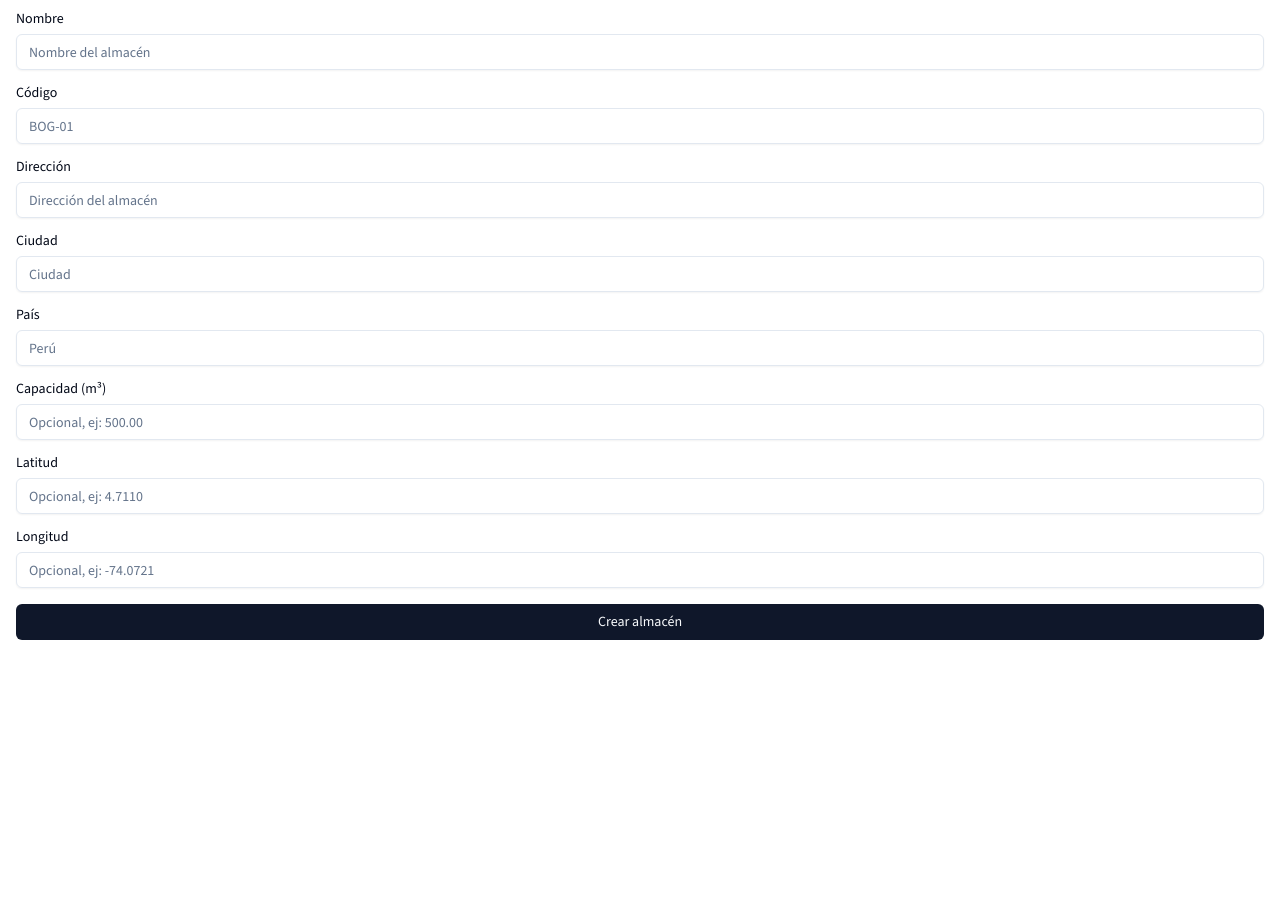
Test: WarehouseForm — validation › shows error when name is empty on submit
This screenshot has width=1280, height=912.
Click the button "Crear almacén": (640, 622) [16, 604, 1264, 640]
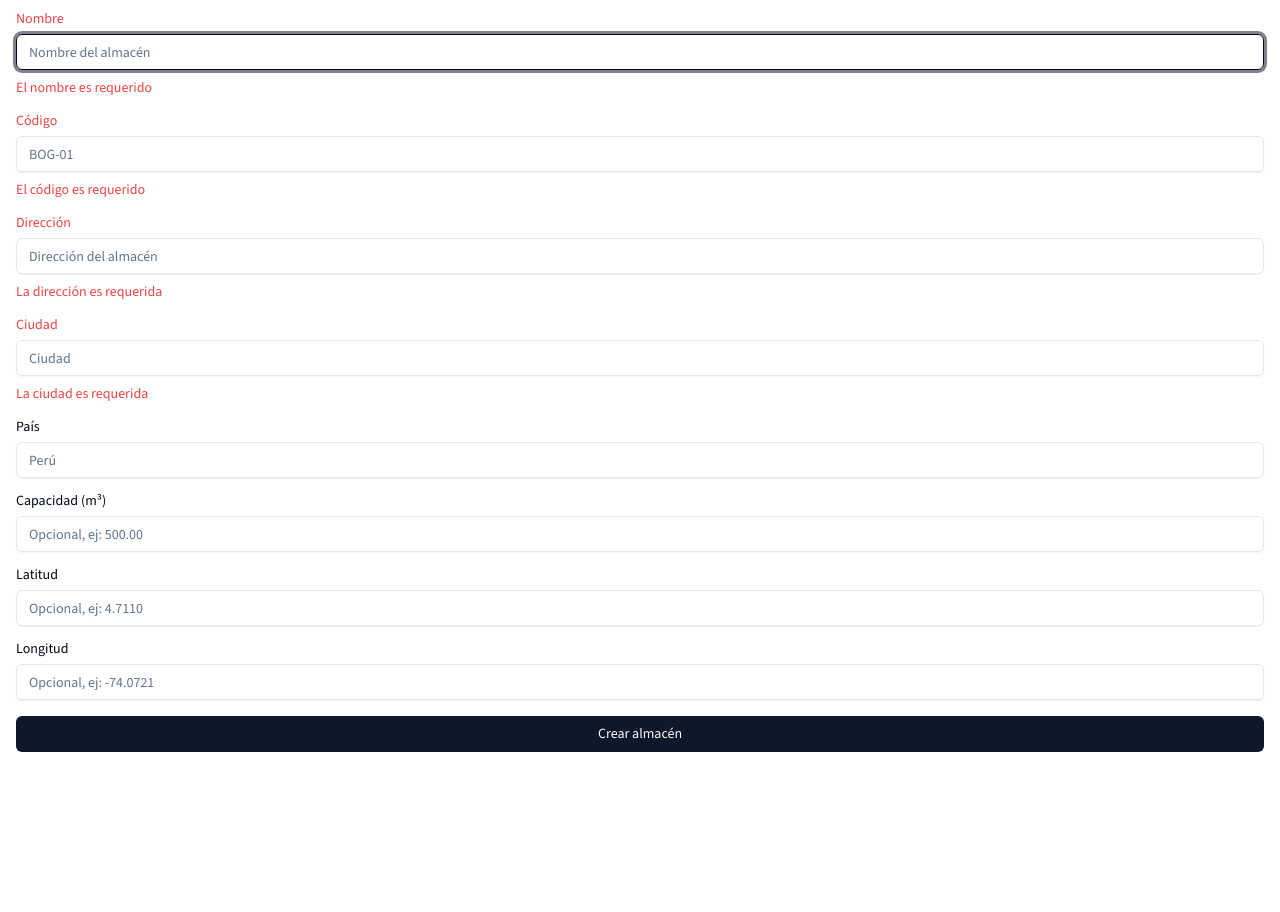
Expected: the text "El nombre es requerido" is shown, [16, 78, 152, 97]
